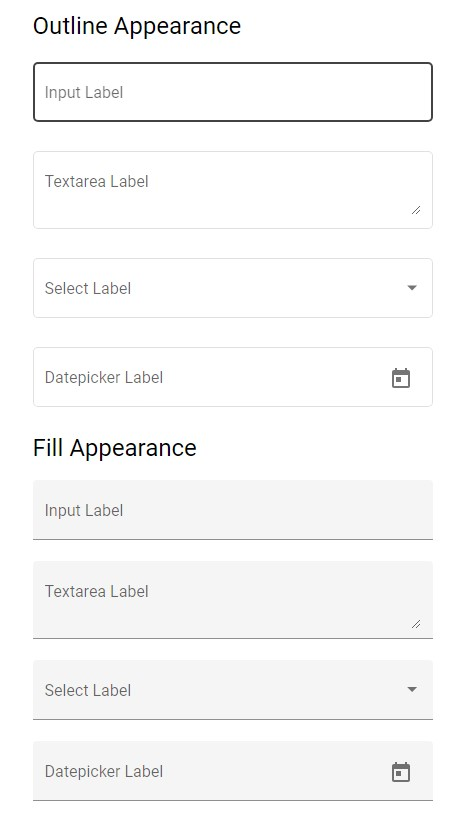_form_: (23, 2, 439, 418), (25, 406, 441, 822)
field: (31, 148, 435, 231), (30, 60, 433, 126), (32, 344, 435, 410)
field_line: (28, 579, 438, 641), (28, 489, 436, 543), (30, 751, 437, 805)
select: (28, 255, 437, 322)
select_line: (28, 672, 437, 723)
